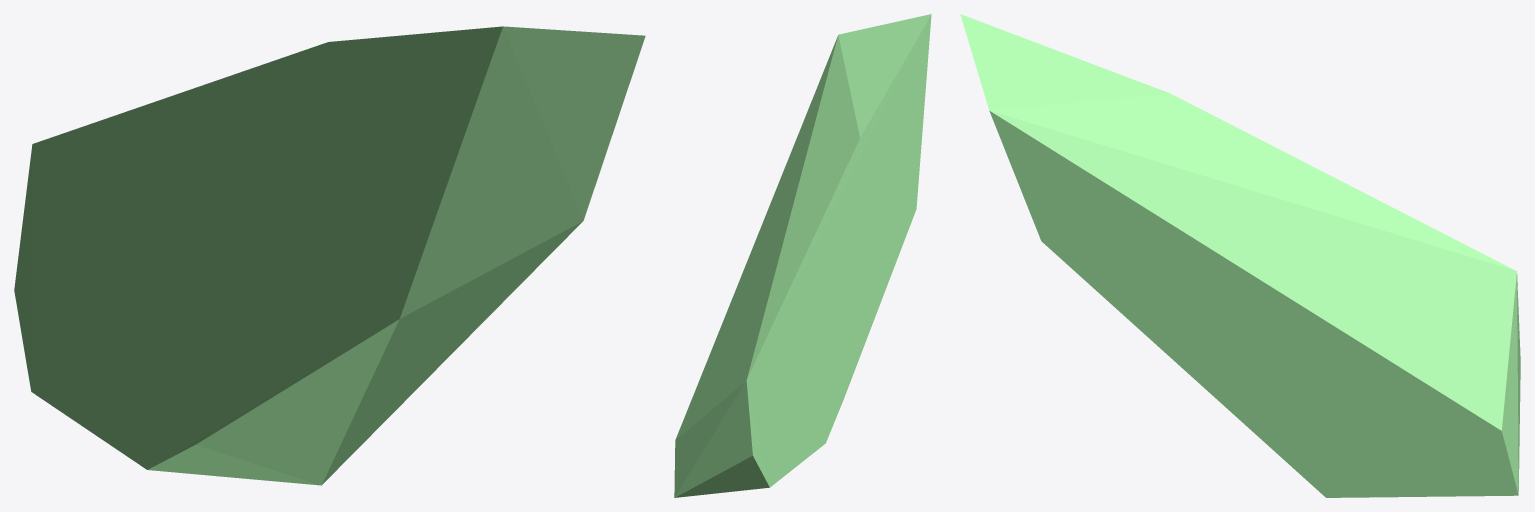
Rendered from UMIRobot_UMIRobot_link_5_convex_coll_55.dae.
3 renders of one model, left to right at view 1: azimuth 30°, elevation 25°; view 2: azimuth 150°, elevation 25°; view 3: azimuth 270°, elevation 25°, orthographic. The views are drawn at different scales.
Parts seen in each view (by area): view 1: node; view 2: node; view 3: node.
Part boxes in pixels (x1,y1,x2,y2): node: (14, 26, 645, 485); node: (674, 14, 931, 497); node: (960, 14, 1520, 497).
Size of the model in its own units: 0.00266 by 0.00727 by 0.00815.
